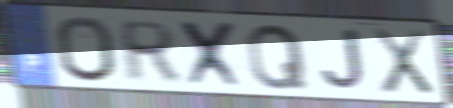J: (319, 27, 366, 92)
O: (52, 14, 120, 84)
Q: (246, 22, 311, 92)
R: (119, 19, 181, 84)
X: (177, 18, 249, 91), (369, 27, 436, 97)
